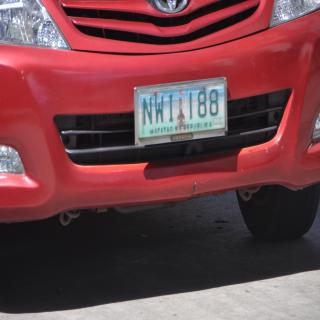license: (135, 79, 228, 147)
